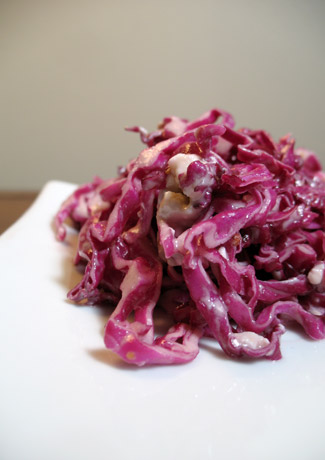cabbage: (49, 107, 323, 369)
